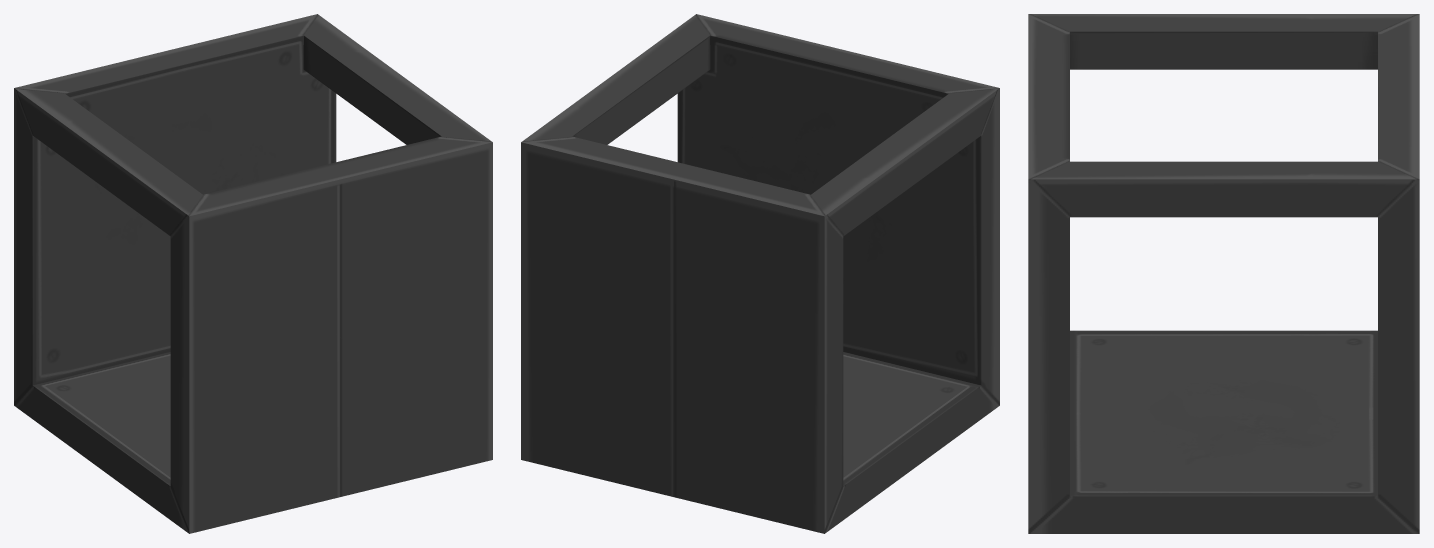
File: VentHub 1.fbx
3 renders of one model, left to right at view 1: azimuth 30°, elevation 25°; view 2: azimuth 150°, elevation 25°; view 3: azimuth 270°, elevation 25°, orthographic. The views are drawn at different scales.
Parts seen in each view (by area): view 1: Cube.001; view 2: Cube.001; view 3: Cube.001.
Boxes of the visible parts, bbox=[...] form: Cube.001: bbox=[14, 14, 492, 533]; Cube.001: bbox=[521, 14, 999, 533]; Cube.001: bbox=[1028, 14, 1419, 533].
Bounding box in the file's own units: 200 × 200 × 200.
